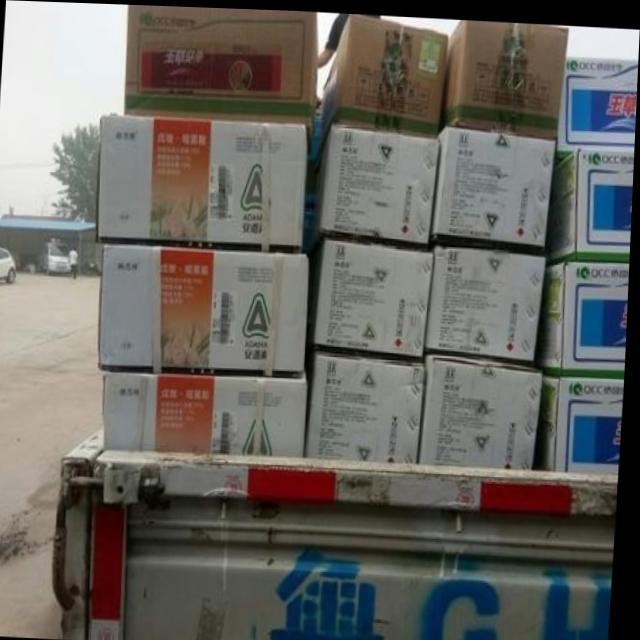box: (99, 114, 307, 252), (101, 241, 308, 372), (123, 4, 318, 122), (315, 14, 451, 151), (106, 369, 308, 453), (309, 121, 440, 241), (308, 236, 435, 356), (433, 123, 557, 244), (443, 18, 568, 136), (427, 243, 546, 359), (423, 352, 546, 464), (309, 348, 427, 459), (539, 256, 632, 375), (546, 142, 636, 261), (554, 53, 639, 164), (535, 366, 626, 468)
